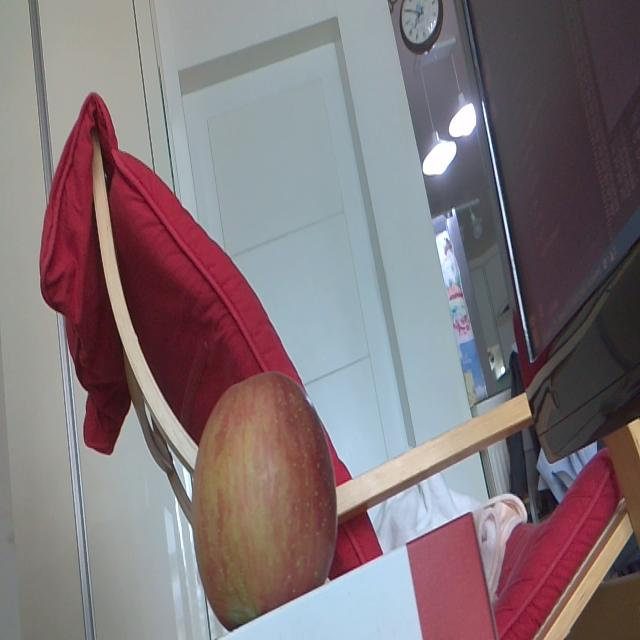apple: (193, 366, 341, 631)
